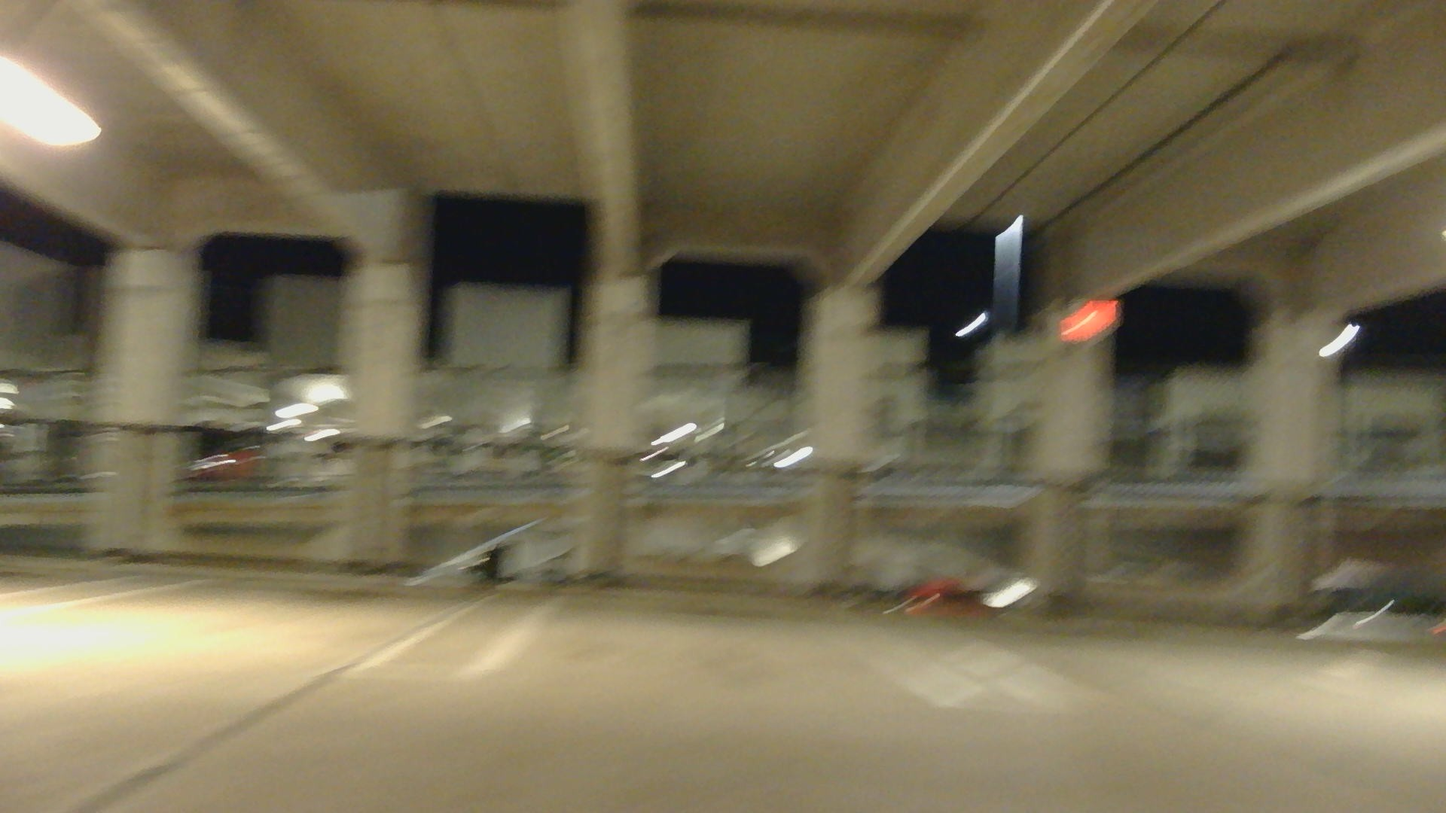empty_spot: (9, 452, 501, 691), (936, 550, 1446, 728), (486, 519, 949, 703)
